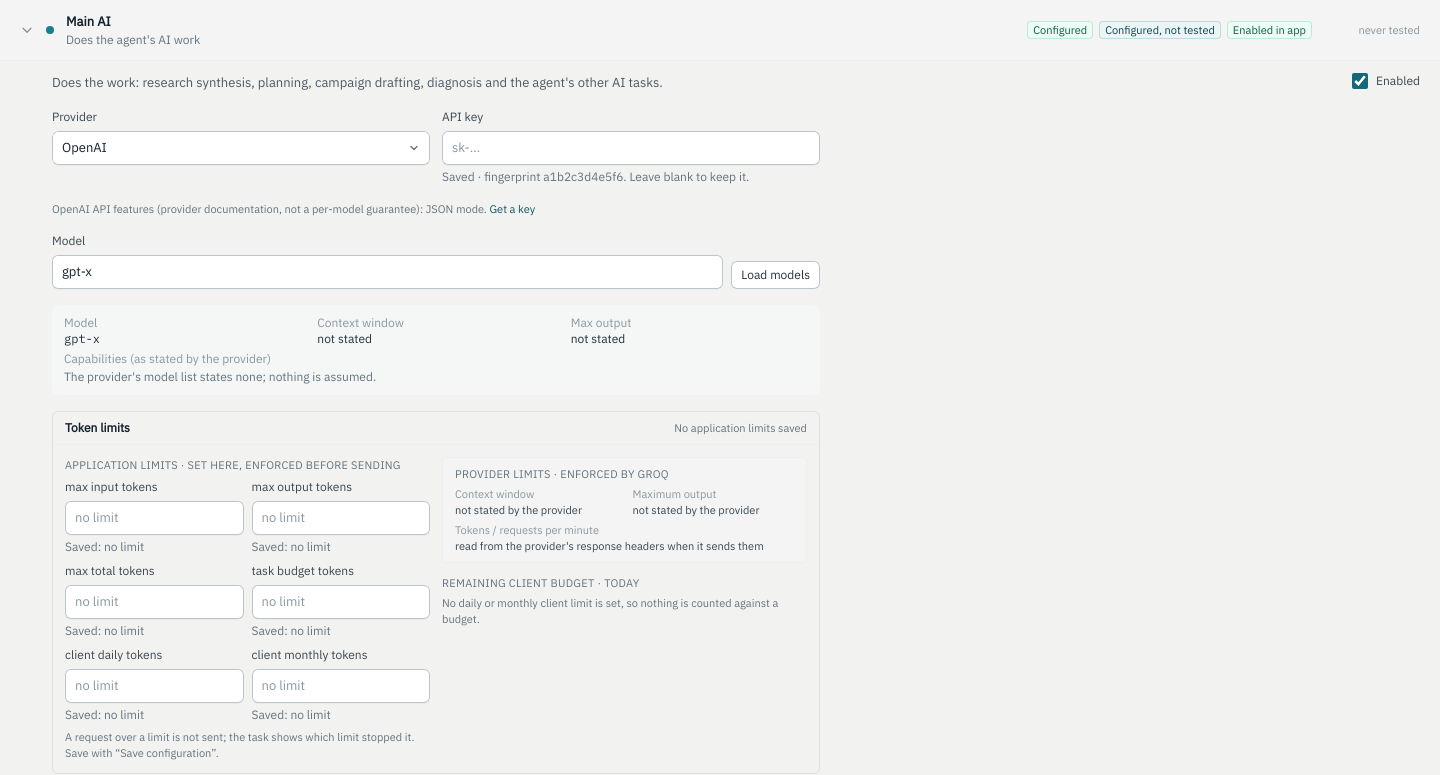
Test case: AI roles › sends a typed key once, never keeps it in the browser, and shows the real test result
The image size is (1440, 775).
Later steps or results of the test are not shown.
Expected: the text "Saved · fingerprint a1b2c3d4e5f6. Leave blank to keep it." is shown, left=442, top=169, right=749, bottom=184
Type "sk-new-secret-key-123456" into the password field labelled "API key". click: point(631, 148)
box: left=442, top=131, right=820, bottom=165
(page scrolled)
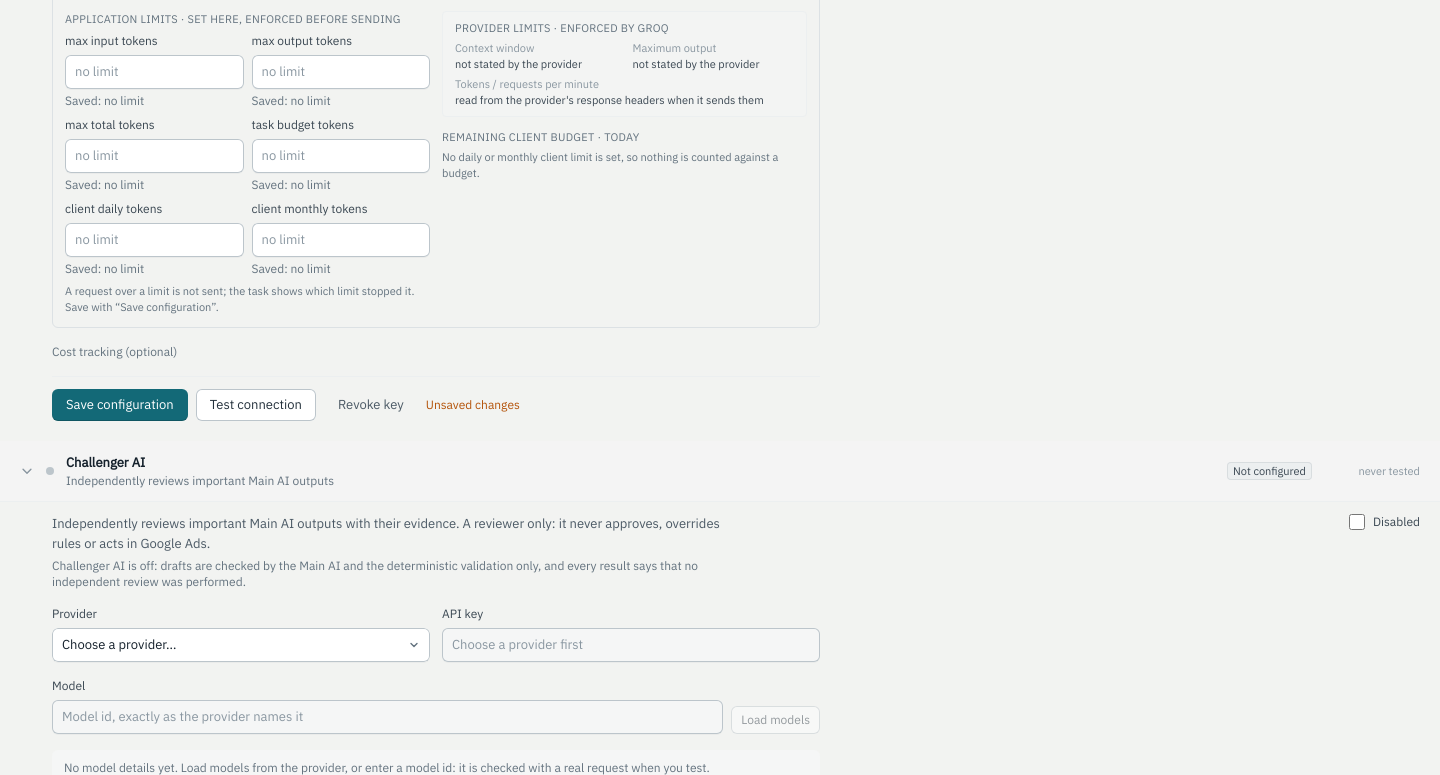
Click the button "Test connection". click: point(256, 405)
box: left=196, top=389, right=316, bottom=421
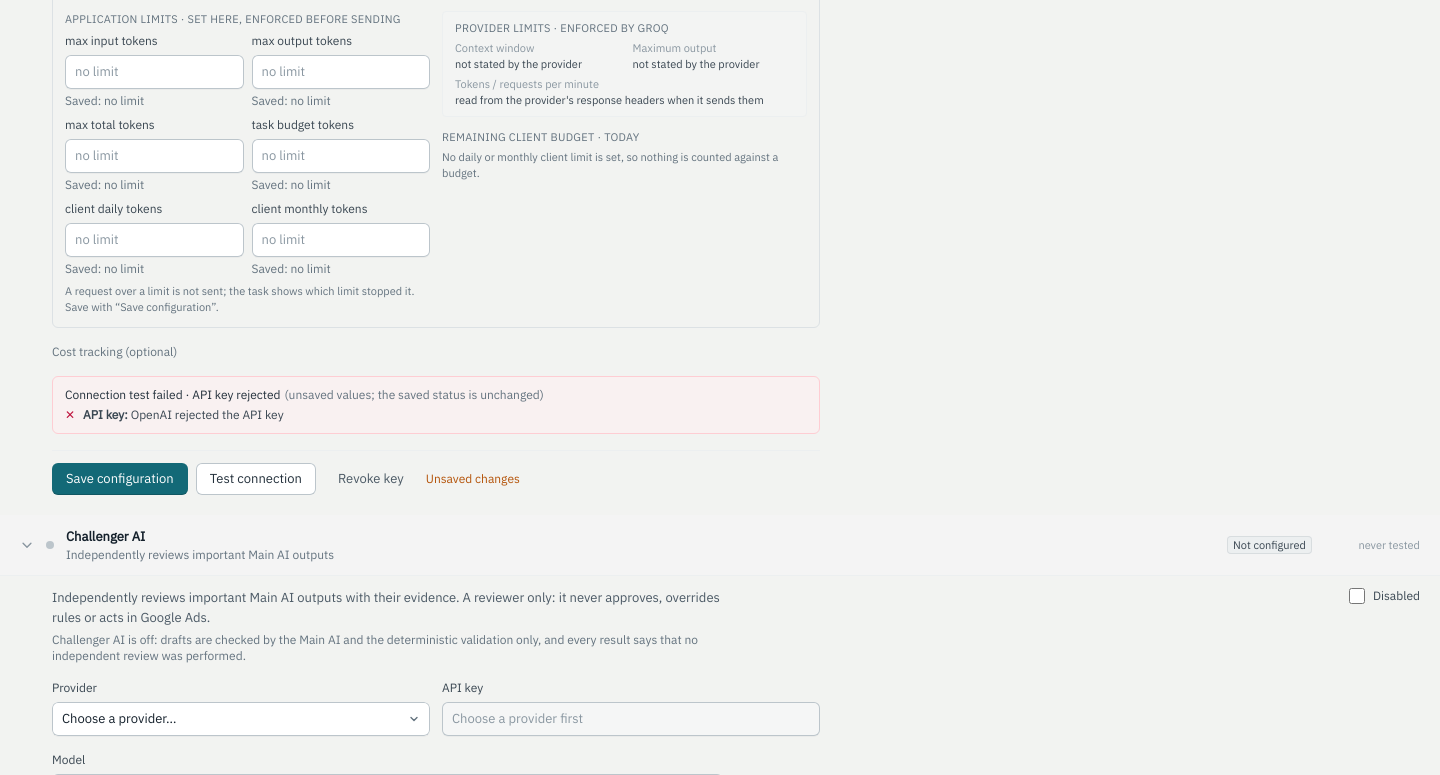
Result: the text "Connection test failed · API key rejected" is shown at left=65, top=387, right=281, bottom=402
Result: the text "(unsaved values; the saved status is unchanged)" is shown at left=285, top=387, right=544, bottom=402
